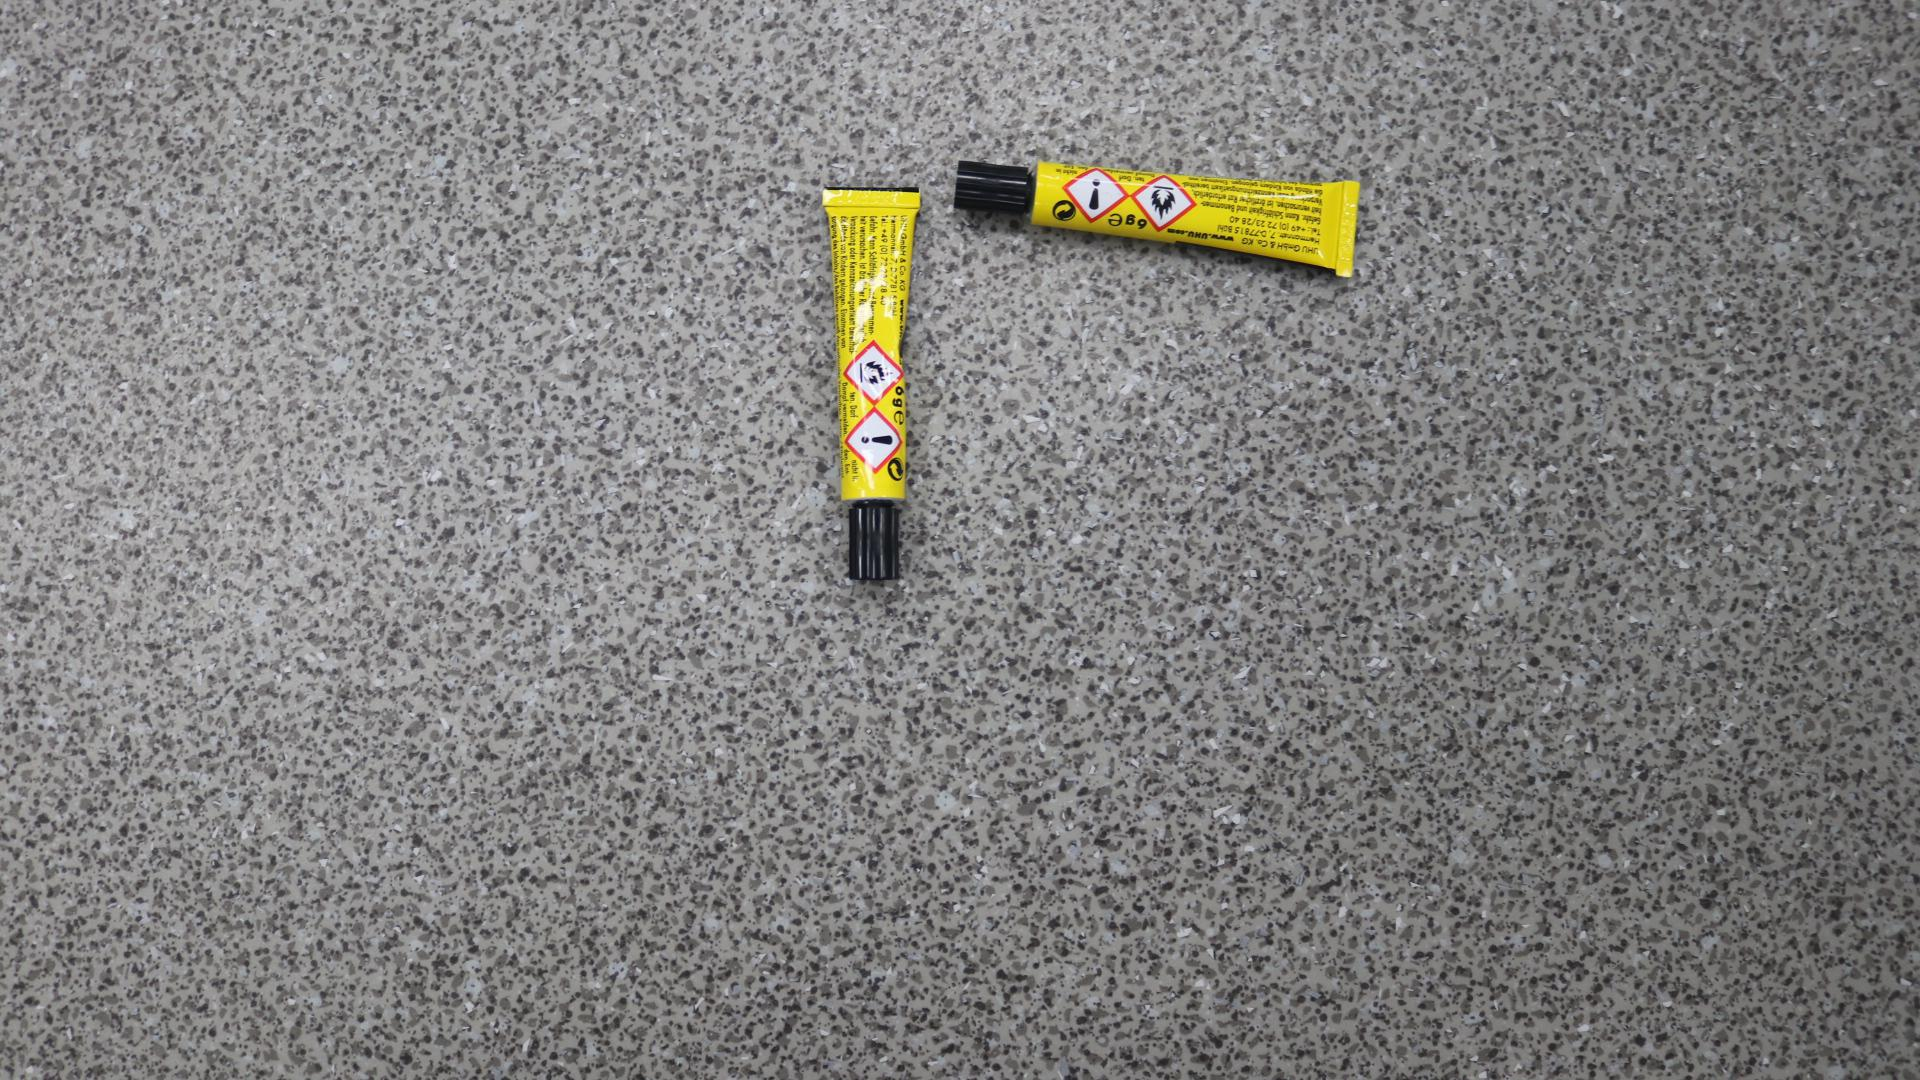Head: (870, 536, 878, 544), (991, 182, 997, 188)
Tail: (869, 194, 877, 201), (1345, 225, 1351, 231)
Tube: (953, 159, 1360, 276), (822, 185, 921, 581)
